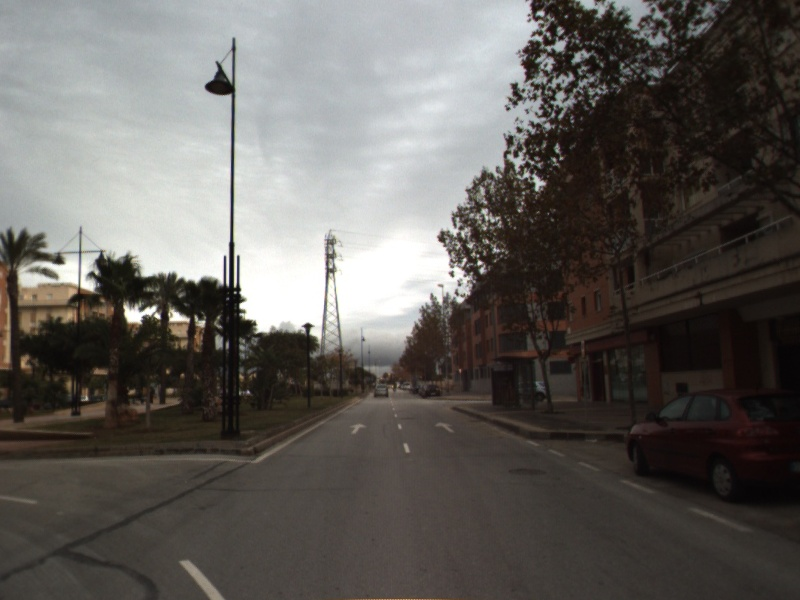STRAIGHT: (433, 420, 456, 434), (348, 422, 369, 436)
